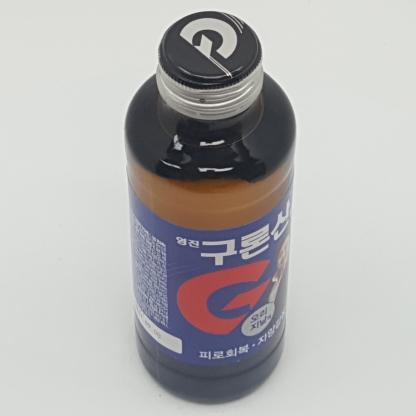---------------150ML: (124, 11, 296, 399)
